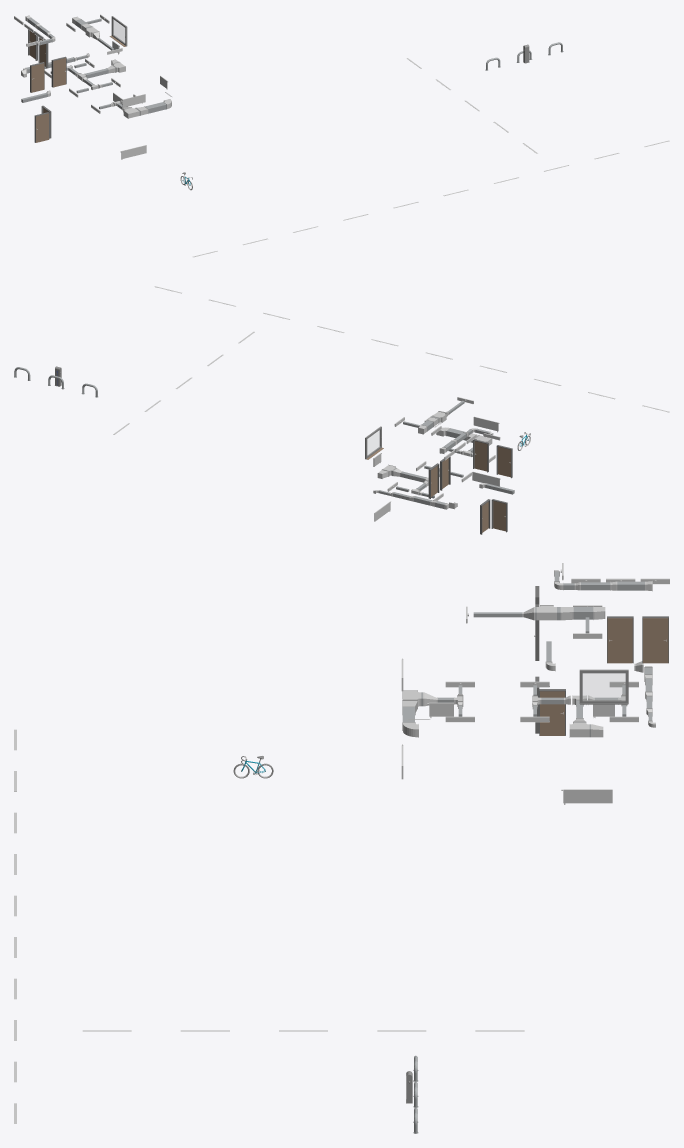
3 renders of one model, top to bottom at view 1: azimuth 30°, elevation 25°; view 2: azimuth 150°, elevation 25°; view 3: azimuth 270°, elevation 25°, orthographic. The views are drawn at different scales.
Size of the model in its own units: 40 by 7.52 by 26.71.
